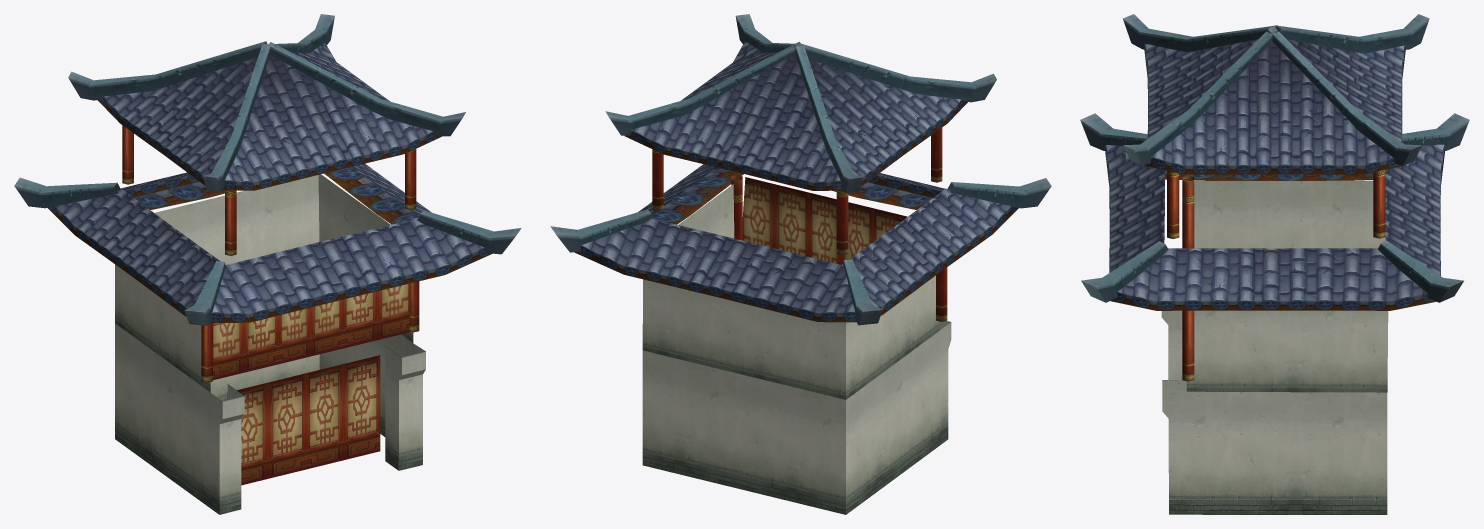
File: szc_building_19a_ding.FBX
The picture shows the model from 3 angles, left to right: view 1: azimuth 30°, elevation 25°; view 2: azimuth 150°, elevation 25°; view 3: azimuth 270°, elevation 25°; orthographic projection. The views are drawn at different scales.
Visible parts, largest first — view 1: szc_building_19a_ding; view 2: szc_building_19a_ding; view 3: szc_building_19a_ding.
Part boxes in pixels (x1,y1,x2,y2): szc_building_19a_ding: (14,14,521,514); szc_building_19a_ding: (550,14,1051,514); szc_building_19a_ding: (1080,14,1469,514).
Bounding box in the file's own units: 563 × 653 × 532.
